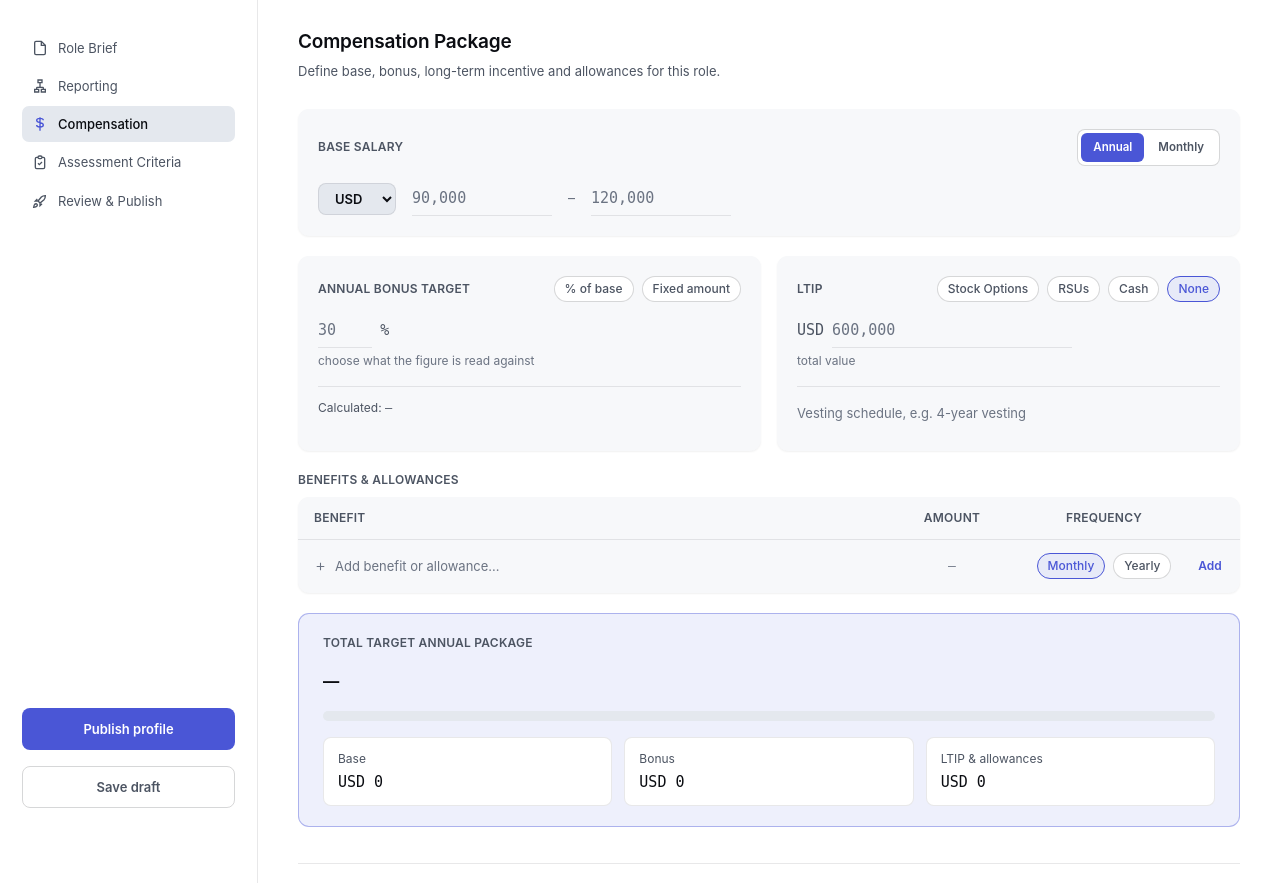
Test: PositionPage › the rail and the step in the URL › opens the step the URL names, and the rail's links walk between them
Expected: the heading "Compensation Package" is shown, [298,30,512,53]
Click the link "Assessment Criteria" at [107, 162], box [32,154,181,170]
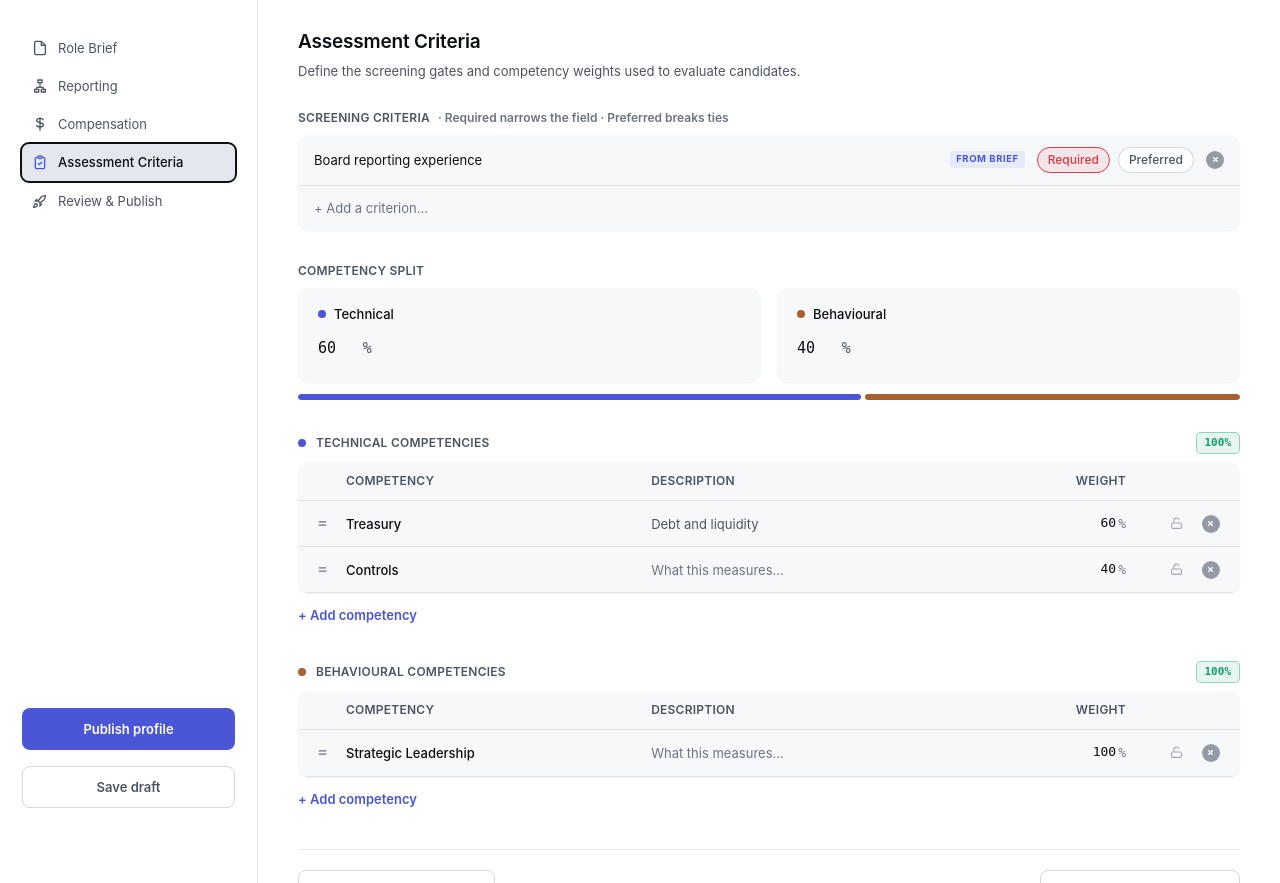
Expected: the heading "Assessment Criteria" is shown, [298,30,480,53]
